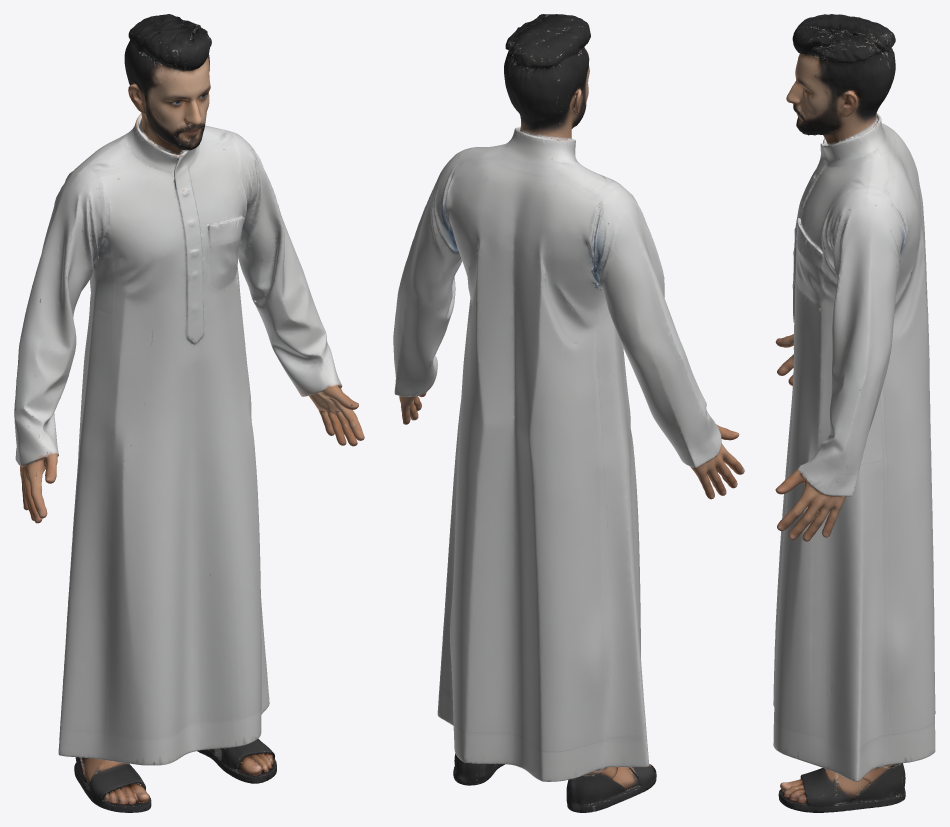
Rendered from patient.glb.
The picture shows the model from 3 angles, left to right: view 1: azimuth 30°, elevation 25°; view 2: azimuth 150°, elevation 25°; view 3: azimuth 270°, elevation 25°; orthographic projection.
Size of the model in its own units: 0.9077 by 2 by 0.3924.
Materials: 1 (1 with a texture image).
